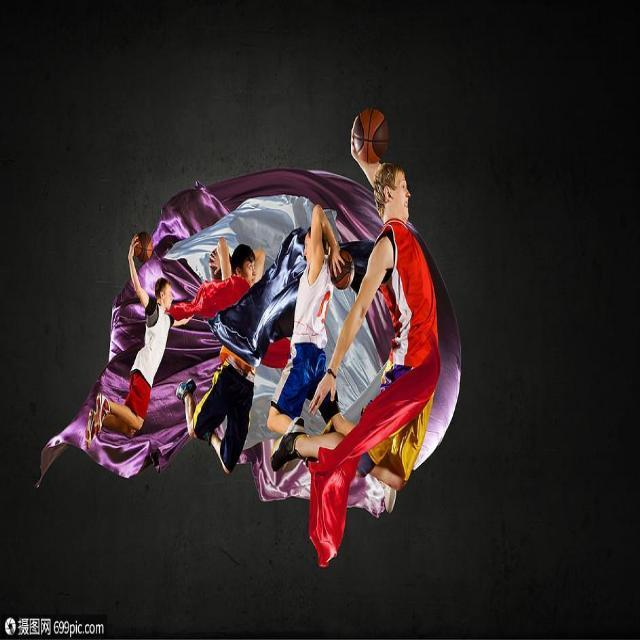rim: (352, 110, 390, 164), (332, 250, 356, 290), (135, 235, 153, 262), (210, 250, 222, 282)
